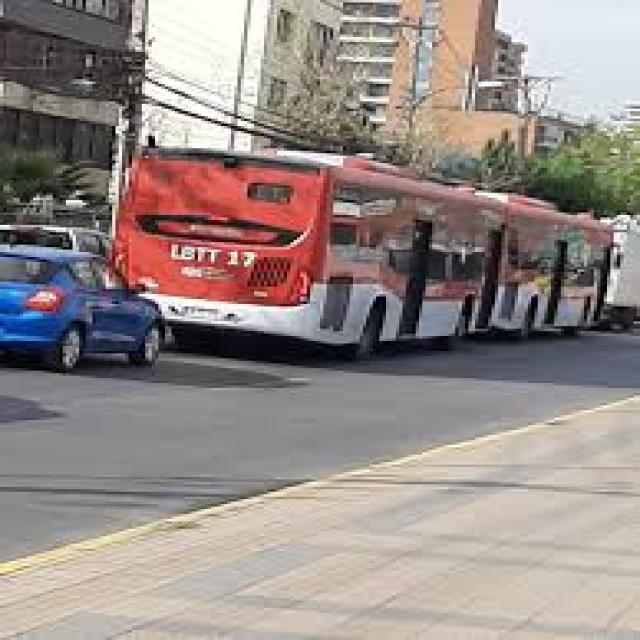AB: (109, 136, 610, 348)
